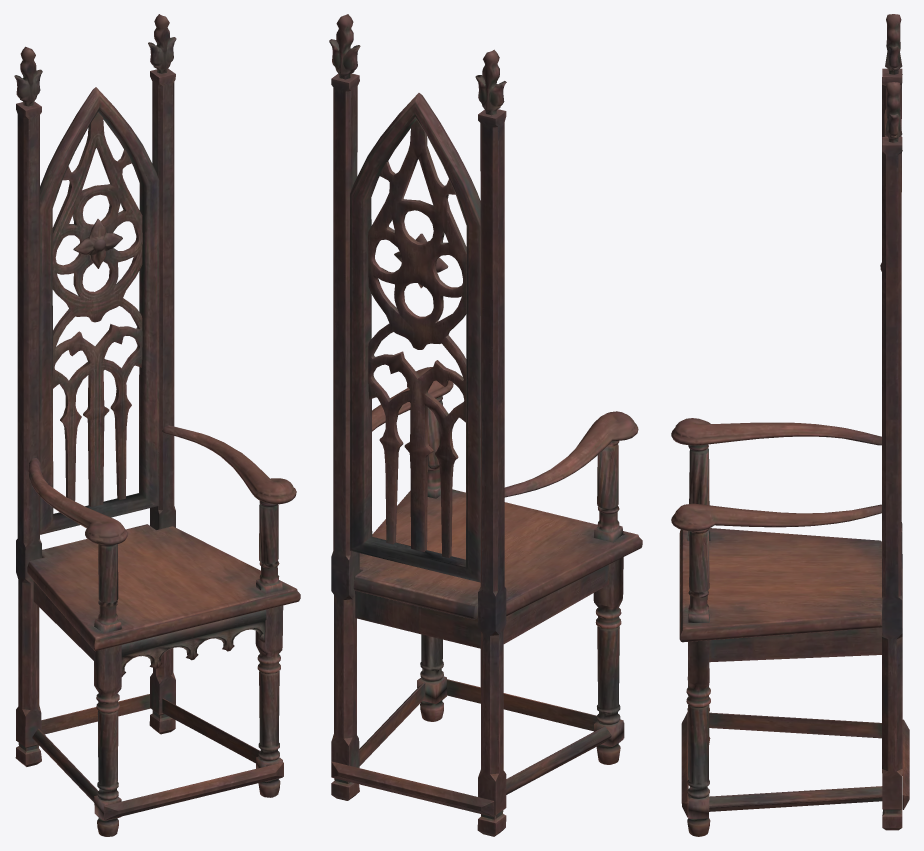
File: WoodenChair_01.glb
3 renders of one model, left to right at view 1: azimuth 30°, elevation 25°; view 2: azimuth 150°, elevation 25°; view 3: azimuth 270°, elevation 25°, orthographic. The views are drawn at different scales.
Parts seen in each view (by area): view 1: WoodenChair_01; view 2: WoodenChair_01; view 3: WoodenChair_01.
Boxes of the visible parts, x1=… form: WoodenChair_01: x1=14, y1=14, x2=300, y2=836; WoodenChair_01: x1=329, y1=14, x2=642, y2=836; WoodenChair_01: x1=671, y1=14, x2=909, y2=836.
Size of the model in its own units: 0.6878 by 2.27 by 0.6584.
Materials: 1 (1 with a texture image).
